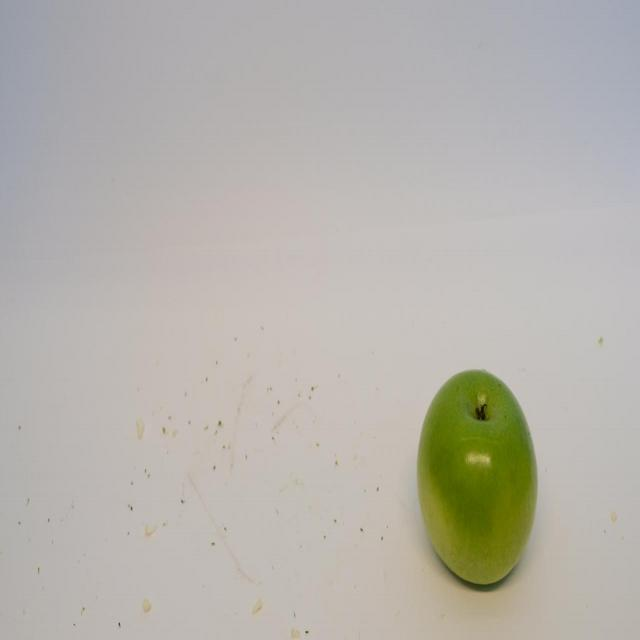apple: (413, 365, 541, 595)
